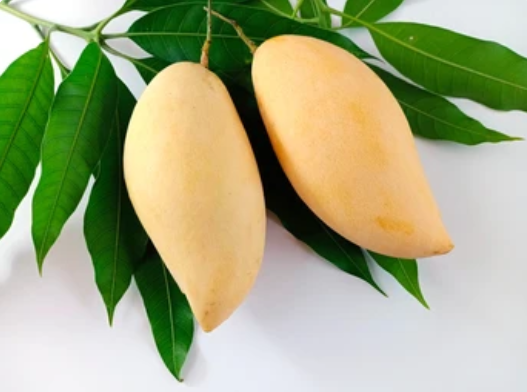mango: (253, 32, 455, 258), (123, 62, 267, 331)
